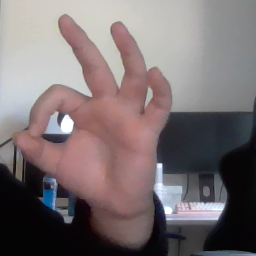O: (11, 12, 177, 216)
